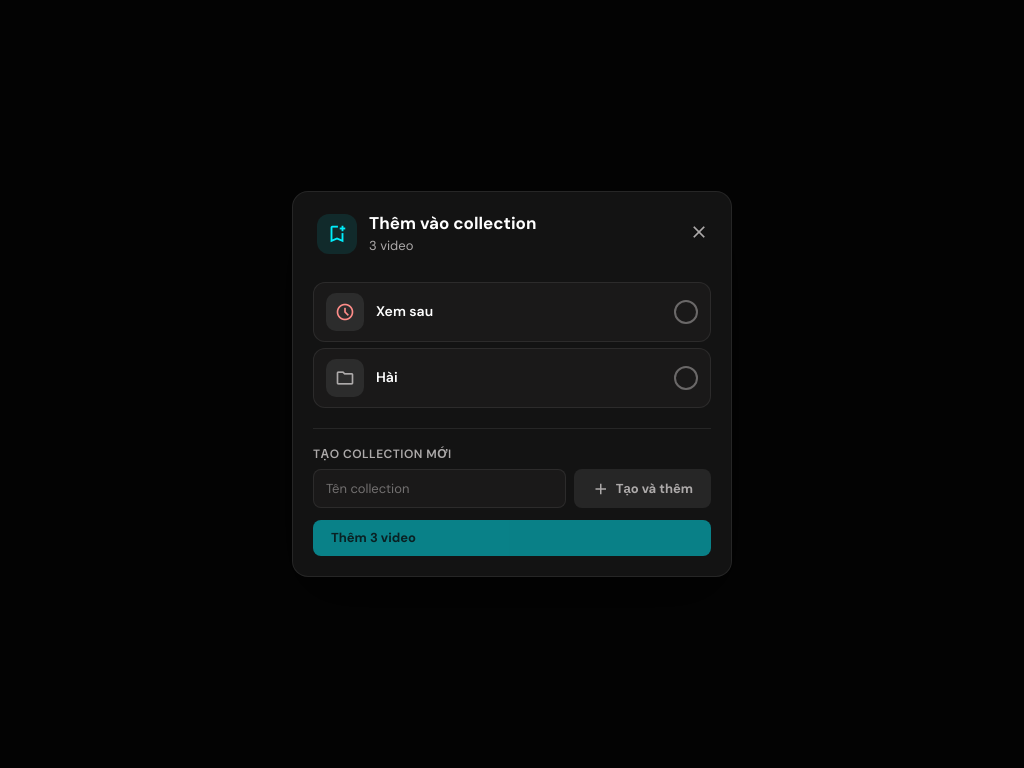
Scenario: BulkAddToCollectionModal › stays open and shows the error when the add fails
Click the radio button labelled "Hài".
click(345, 378)  # box x1=313 y1=348 x2=711 y2=408
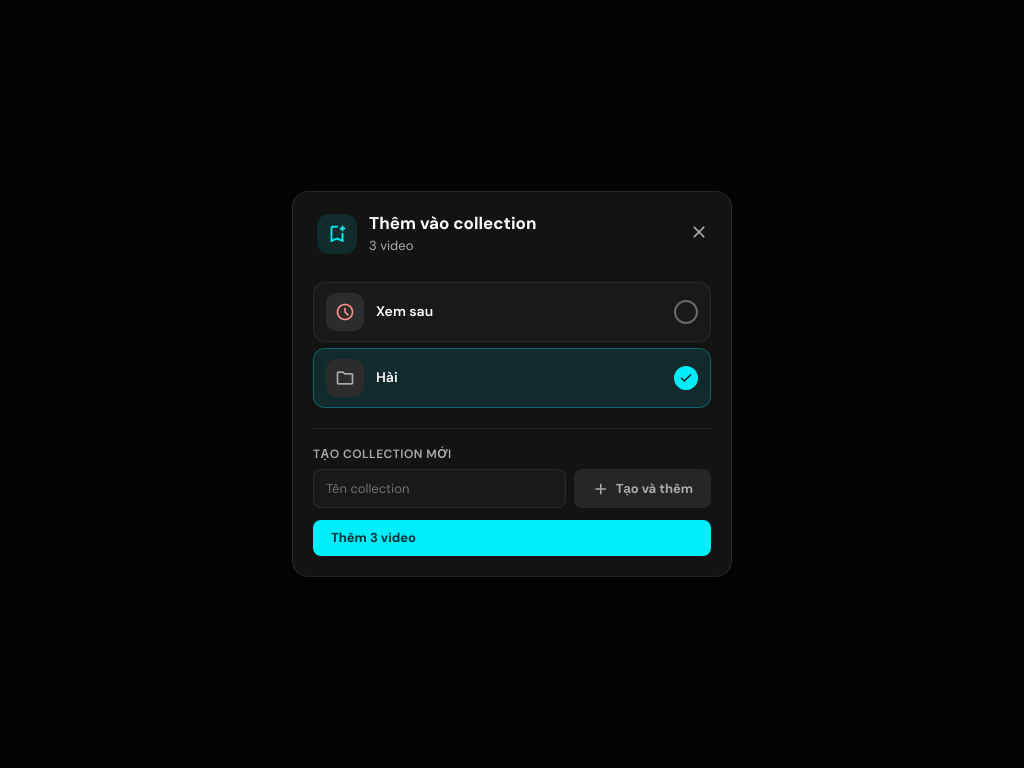
Click the button "Thêm 3 video".
click(373, 538)  # box x1=313 y1=520 x2=711 y2=556
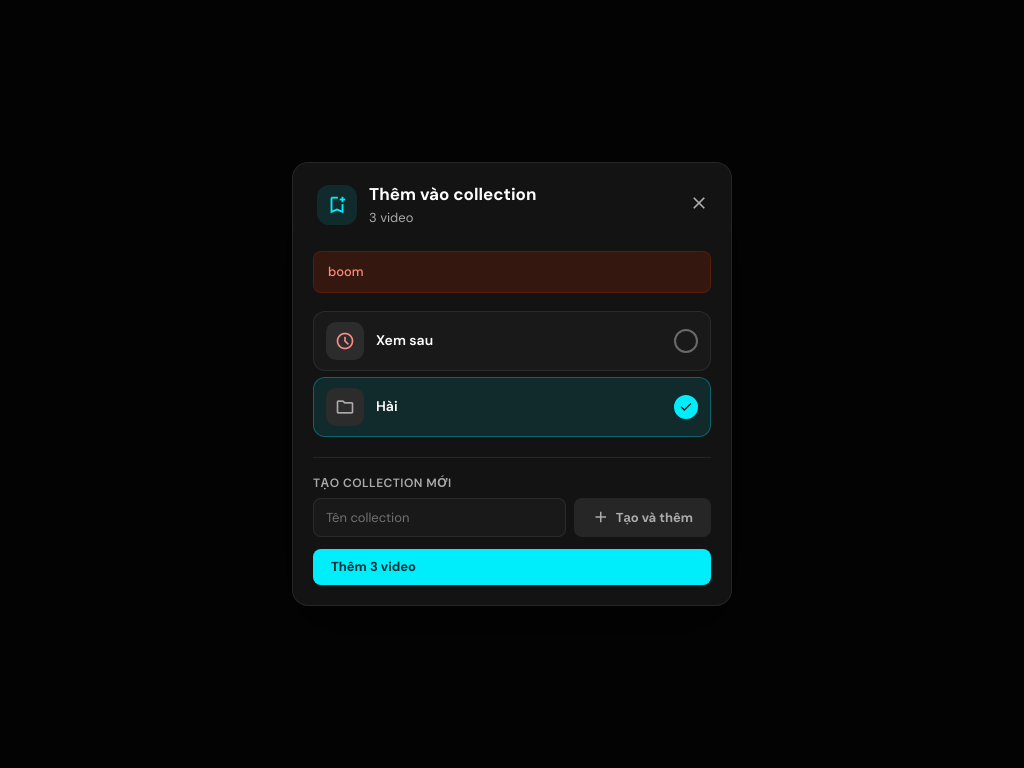
Expected: the dialog is shown, x1=292 y1=162 x2=732 y2=606
Expected: the radio button labelled "Hài" is checked, x1=313 y1=376 x2=711 y2=436
Expected: the message reads "boom", x1=328 y1=263 x2=364 y2=280
